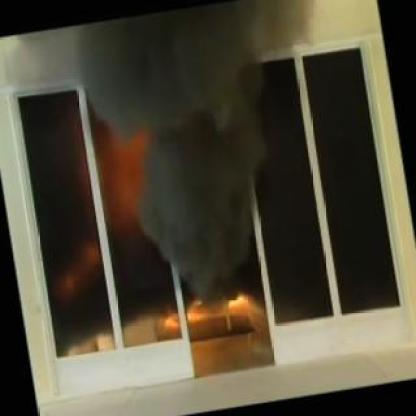Fire: (155, 290, 263, 351)
Smoke: (84, 3, 298, 280)
